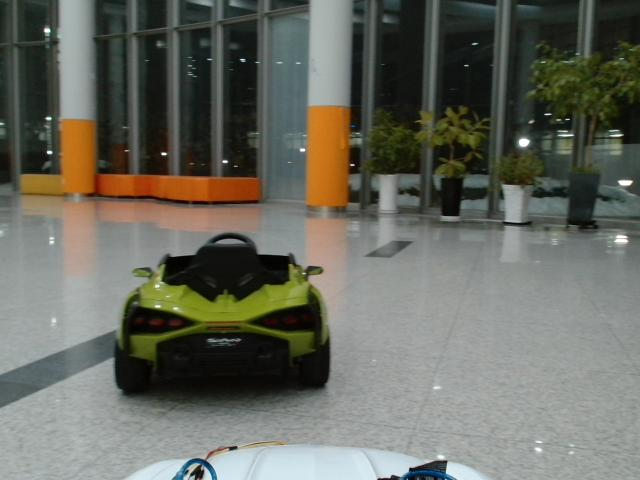car: (116, 233, 331, 397)
